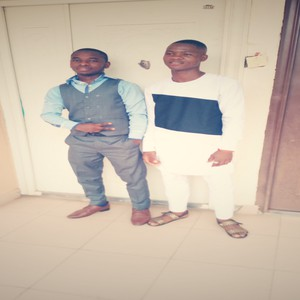Fulokoja_male_student: (149, 40, 246, 237), (42, 49, 147, 226)
